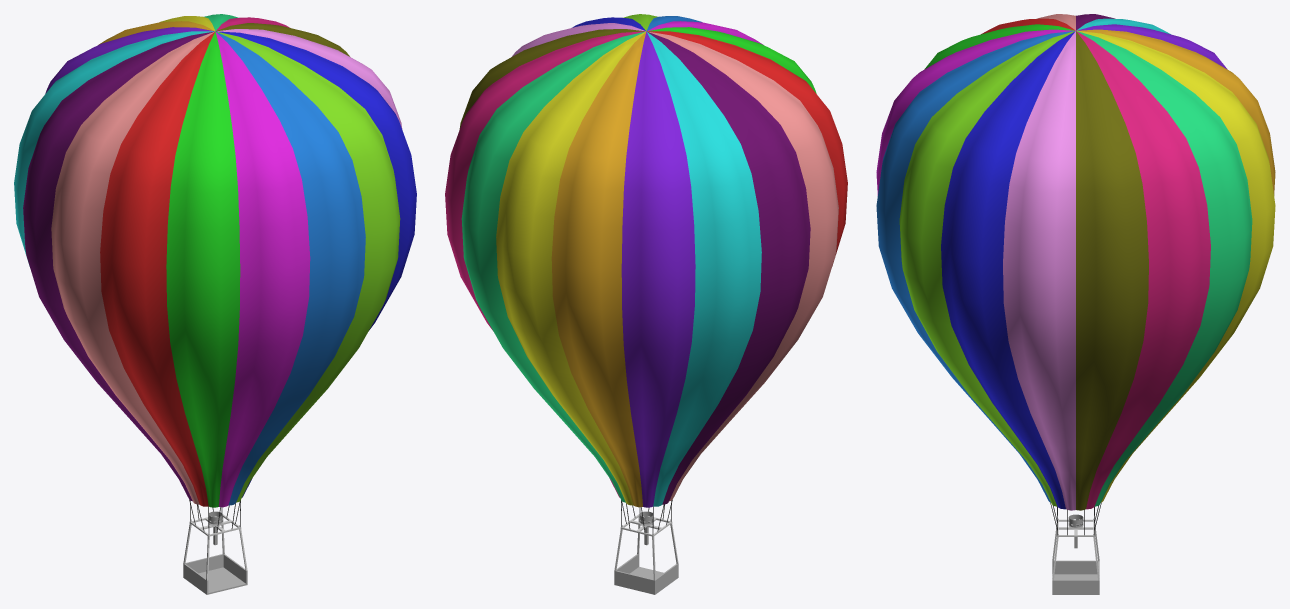
The model's file is balloon.glb.
3 renders of one model, left to right at view 1: azimuth 30°, elevation 25°; view 2: azimuth 150°, elevation 25°; view 3: azimuth 270°, elevation 25°, orthographic.
Visible parts, largest first — view 1: Balloon, Platform, PlatformFrame; view 2: Balloon, Platform, PlatformFrame; view 3: Balloon, Platform, PlatformFrame.
Part boxes in pixels (x1=…): Balloon: x1=14, y1=14, x2=416, y2=507; Platform: x1=183, y1=554, x2=247, y2=594; PlatformFrame: x1=183, y1=514, x2=247, y2=580; Balloon: x1=445, y1=14, x2=847, y2=507; Platform: x1=614, y1=554, x2=678, y2=594; PlatformFrame: x1=614, y1=514, x2=678, y2=580; Balloon: x1=876, y1=14, x2=1275, y2=510; Platform: x1=1052, y1=560, x2=1099, y2=594; PlatformFrame: x1=1052, y1=519, x2=1099, y2=580.
Size of what is drawn, in the model's own units: 25.25 by 38.69 by 25.25.
5 materials, 1 textured.
